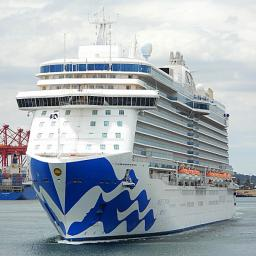cruises: (15, 4, 241, 249)
